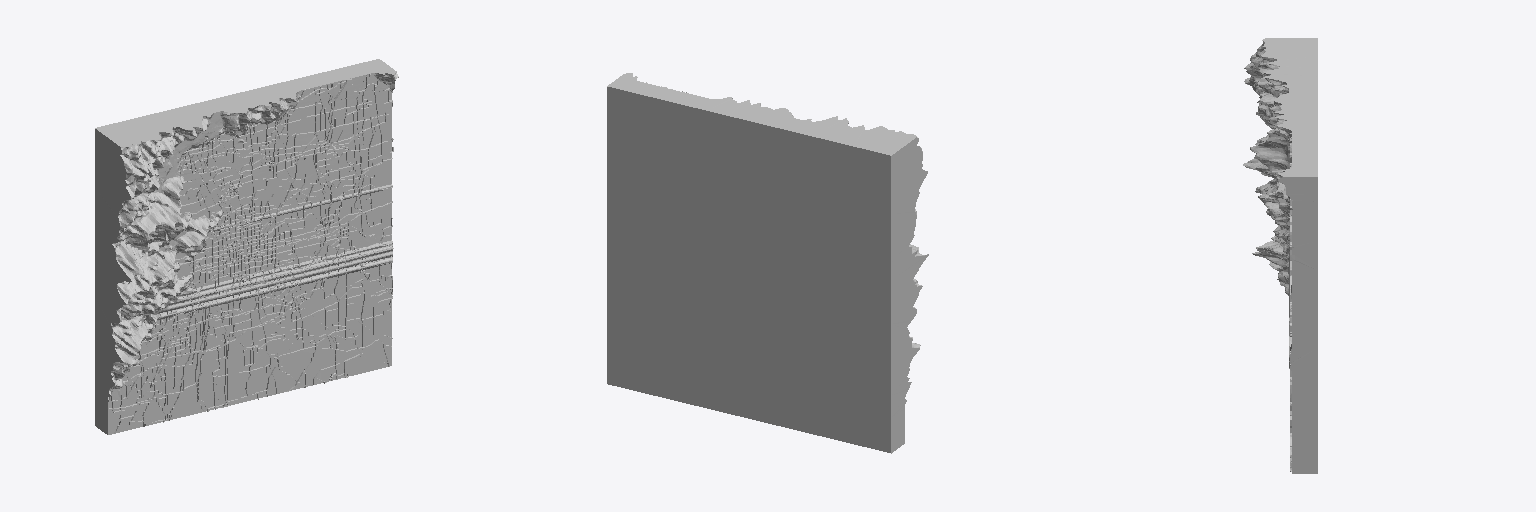
File: BeijingLow.obj
The picture shows the model from 3 angles: view 1: azimuth 30°, elevation 25°; view 2: azimuth 150°, elevation 25°; view 3: azimuth 270°, elevation 25°; orthographic projection.
Parts seen in each view (by area): view 1: default; view 2: default; view 3: default.
Part boxes in pixels (bbox=[...]): default: bbox=[95, 59, 398, 434]; default: bbox=[607, 73, 928, 453]; default: bbox=[1243, 38, 1317, 473].
Size of the model in its own units: 184 by 184 by 42.31.